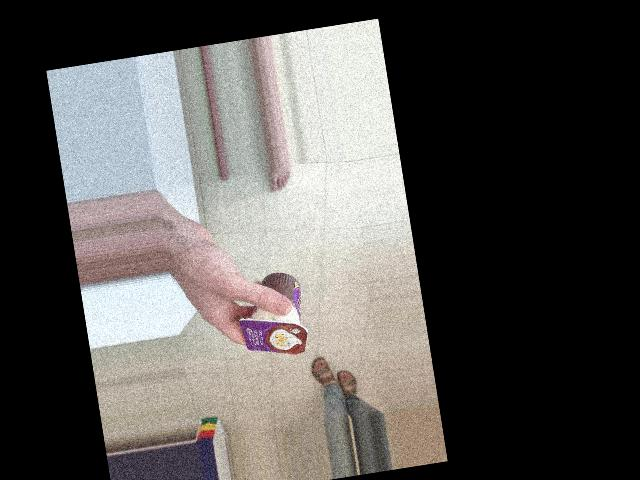milky: (247, 292, 342, 366)
